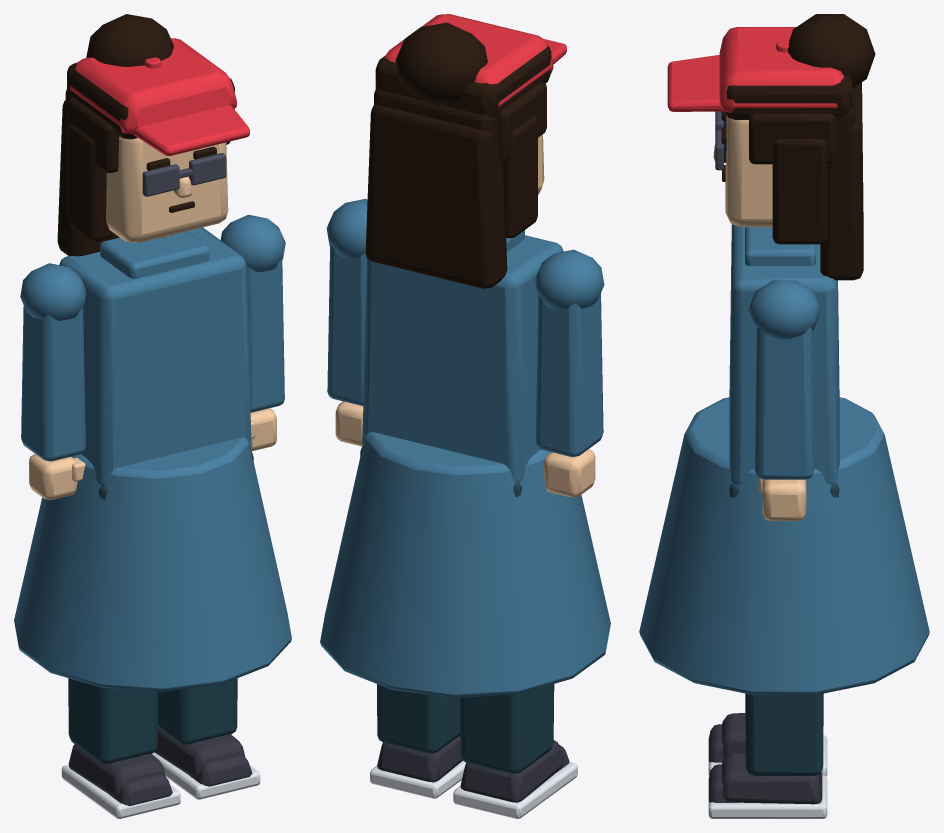
Rendered from humanoid.glb.
The picture shows the model from 3 angles, left to right: view 1: azimuth 30°, elevation 25°; view 2: azimuth 150°, elevation 25°; view 3: azimuth 270°, elevation 25°; orthographic projection. The views are drawn at different scales.
Parts seen in each view (by area): view 1: DressSkirt, TorsoChest, ArmL_Sleeve, CapCrown, Cranium, LegL_Leg, ArmR_Sleeve, LegR_Leg, HairLongLock_-1.0, CapBrim, BunSphere, TorsoCollar (+15 smaller); view 2: DressSkirt, TorsoChest, HairLongCurtain, ArmL_Sleeve, LegL_Leg, BunSphere, ArmR_Sleeve, LegR_Leg, CapCrown, HairTop, HairLongLock_-1.0, ArmL_Shoulder (+9 smaller); view 3: DressSkirt, TorsoChest, ArmR_Sleeve, LegR_Leg, CapCrown, HairLongLock_1.0, HairLongCurtain, BunSphere, Cranium, HairTop, ArmR_Shoulder, LegR_ShoeUpper (+7 smaller).
Boxes of the visible parts, x1=… form: DressSkirt: x1=14, y1=437, x2=291, y2=691; TorsoChest: x1=59, y1=227, x2=251, y2=486; ArmL_Sleeve: x1=21, y1=305, x2=85, y2=461; CapCrown: x1=70, y1=38, x2=236, y2=134; Cranium: x1=106, y1=136, x2=228, y2=242; LegL_Leg: x1=68, y1=678, x2=158, y2=763; ArmR_Sleeve: x1=247, y1=258, x2=284, y2=412; LegR_Leg: x1=157, y1=678, x2=237, y2=744; HairLongLock_-1.0: x1=68, y1=124, x2=112, y2=241; CapBrim: x1=134, y1=105, x2=249, y2=155; BunSphere: x1=86, y1=14, x2=173, y2=66; TorsoCollar: x1=100, y1=231, x2=209, y2=278; DressSkirt: x1=320, y1=432, x2=610, y2=697; TorsoChest: x1=362, y1=235, x2=563, y2=482; HairLongCurtain: x1=365, y1=104, x2=507, y2=288; ArmL_Sleeve: x1=535, y1=293, x2=603, y2=456; LegL_Leg: x1=460, y1=684, x2=554, y2=773; BunSphere: x1=395, y1=22, x2=487, y2=105; ArmR_Sleeve: x1=327, y1=244, x2=366, y2=405; LegR_Leg: x1=377, y1=684, x2=460, y2=753; CapCrown: x1=384, y1=14, x2=553, y2=106; HairTop: x1=375, y1=46, x2=551, y2=117; HairLongLock_-1.0: x1=502, y1=115, x2=537, y2=238; ArmL_Shoulder: x1=535, y1=249, x2=604, y2=309; DressSkirt: x1=639, y1=397, x2=929, y2=694; TorsoChest: x1=729, y1=224, x2=839, y2=484; ArmR_Sleeve: x1=755, y1=327, x2=813, y2=479; LegR_Leg: x1=745, y1=693, x2=823, y2=775; CapCrown: x1=719, y1=27, x2=843, y2=113; HairLongLock_1.0: x1=772, y1=139, x2=827, y2=244; HairLongCurtain: x1=820, y1=82, x2=863, y2=280; BunSphere: x1=787, y1=14, x2=875, y2=87; Cranium: x1=725, y1=115, x2=772, y2=227; HairTop: x1=725, y1=75, x2=852, y2=119; ArmR_Shoulder: x1=748, y1=280, x2=820, y2=339; LegR_ShoeUpper: x1=722, y1=753, x2=822, y2=804.
Size of the model in its own units: 0.7674 by 2.14 by 0.7339.
